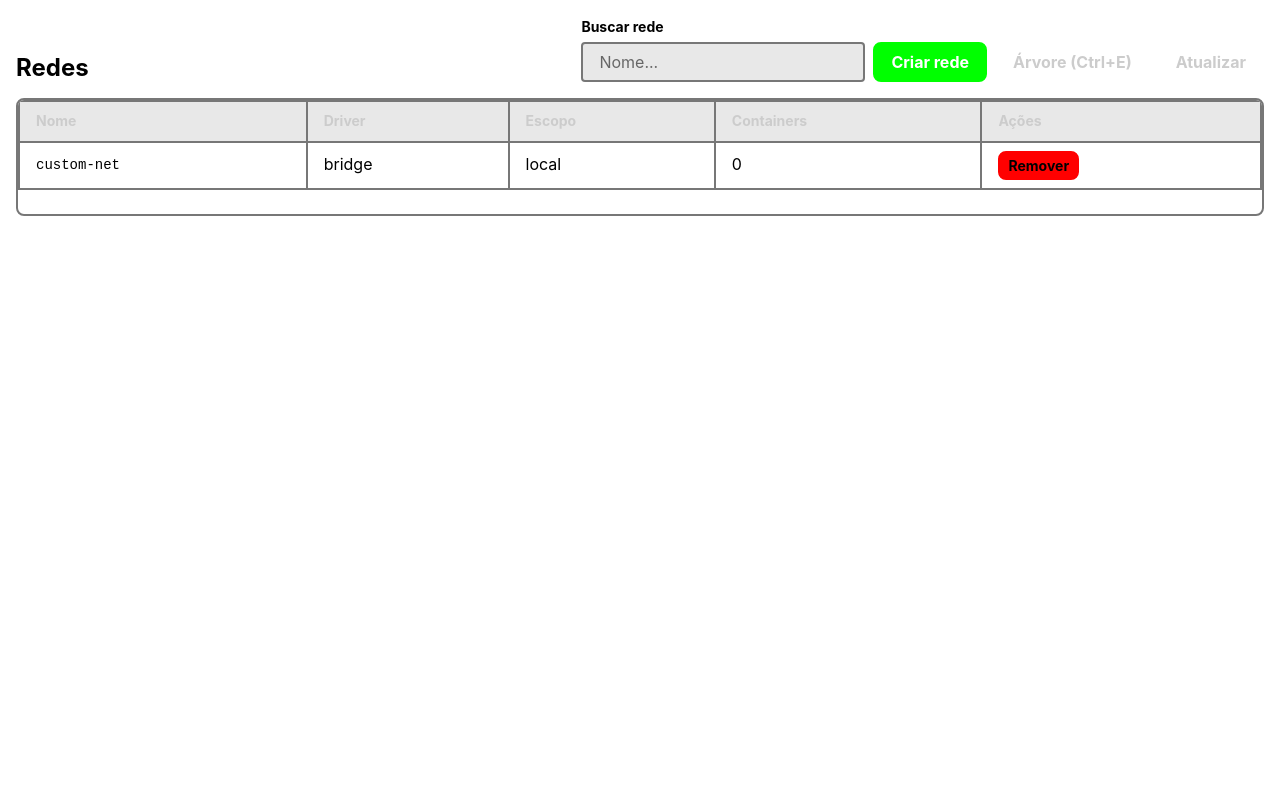
Networks › remove network button opens confirm modal
Check: the text "custom-net" is shown, box [19,142,307,189]
Click the button with test id "remove-net-net1": (1039, 165) [998,151,1079,180]
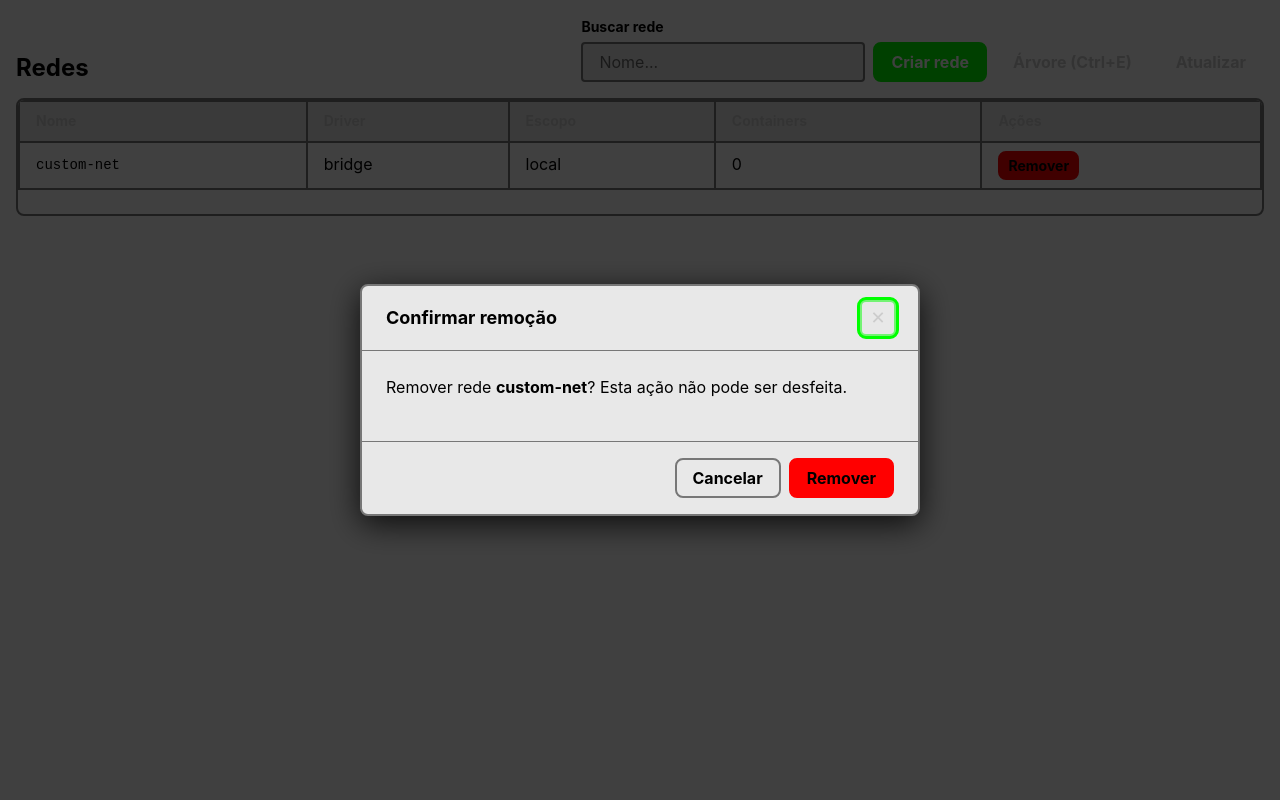
Check: the dialog "Confirmar remoção" is shown, box [360,284,920,516]
